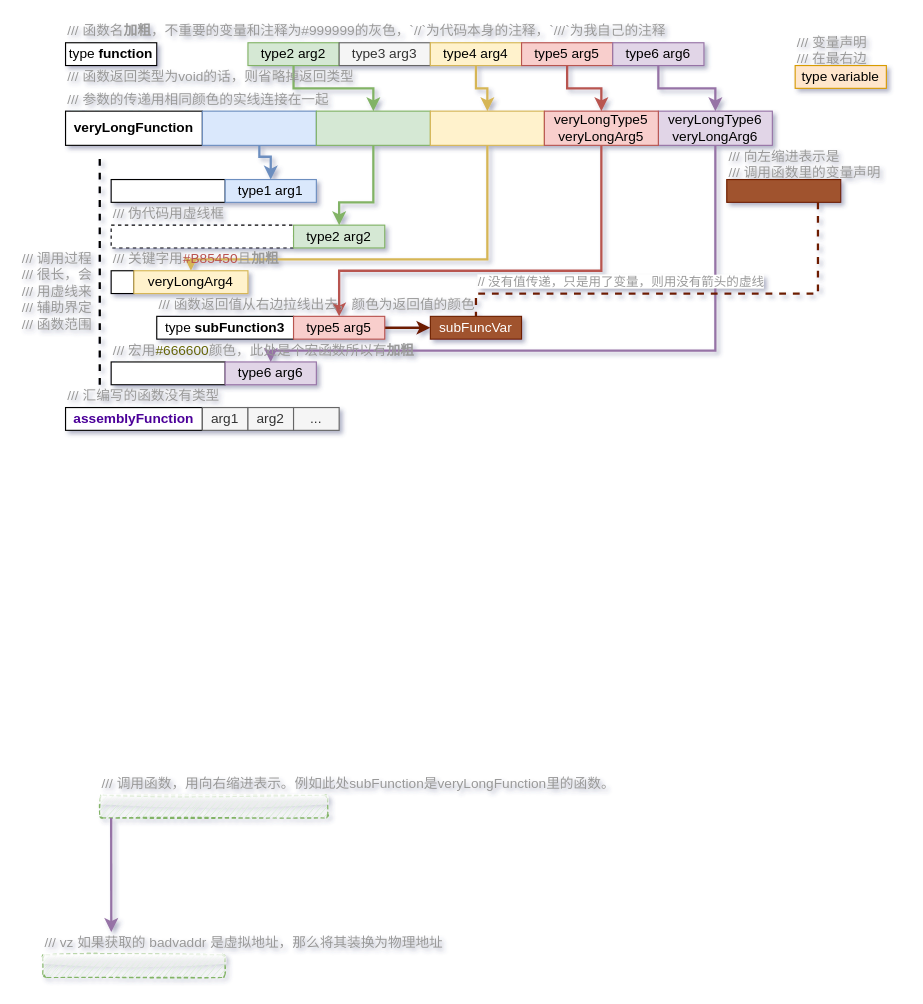
This 923x1004 diagram has some shape labels left out. Each missing label, with the centre of its shape:
if: point (122, 282)
kvm_trap_vz_handle_tlb_st_miss: point (213, 806)
kvm_vz_badvaddr_to_gpa: point (133, 966)
pseudo-code例如将arg2取反: point (202, 236)
subFunction1: point (167, 190)
subFunction4: point (167, 373)
type subFuncVar: point (783, 190)
veryLongType1 veryLongArg1: point (258, 127)
veryLongType2 veryLongArg2: point (372, 127)
veryLongType4 veryLongArg4: point (486, 127)
